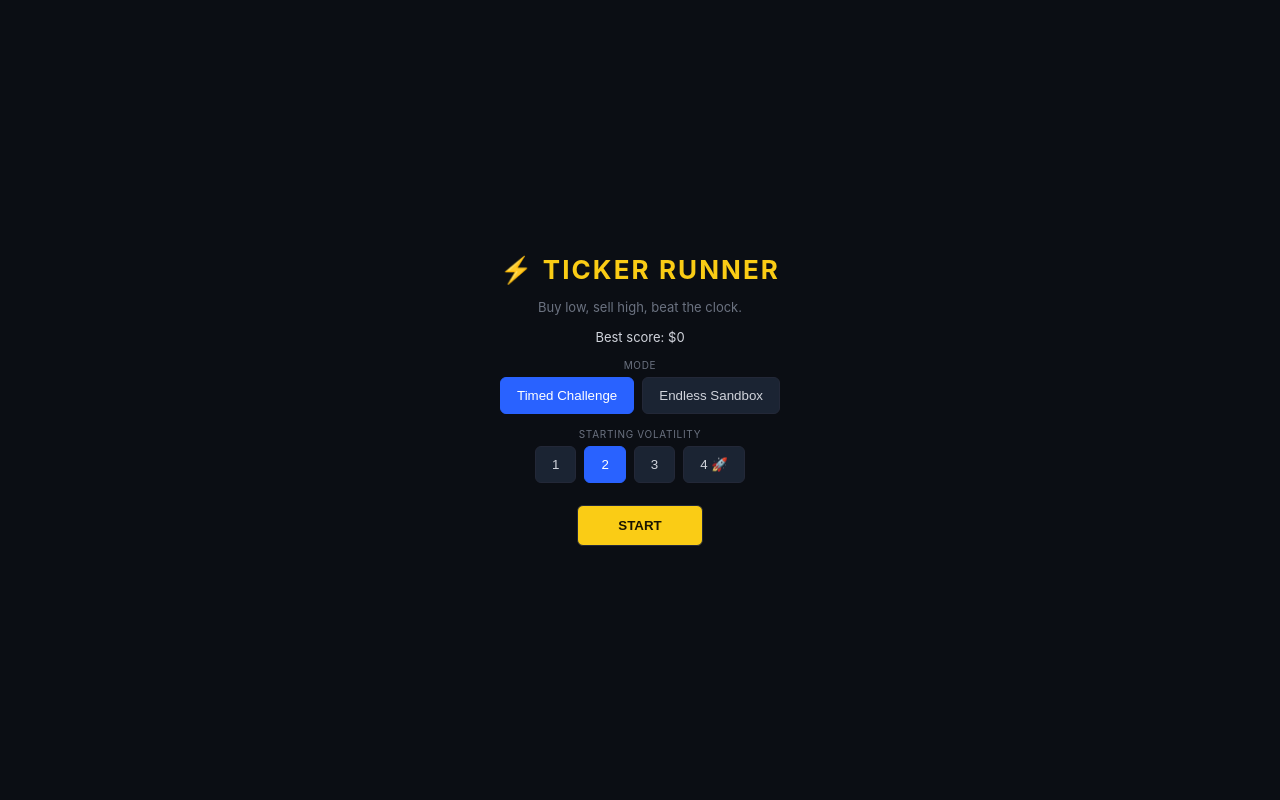
Test: App › renders the playing screen after pressing START without crashing
// start screen is up
Click the button "START" at [640, 526], box [577,505,703,546]
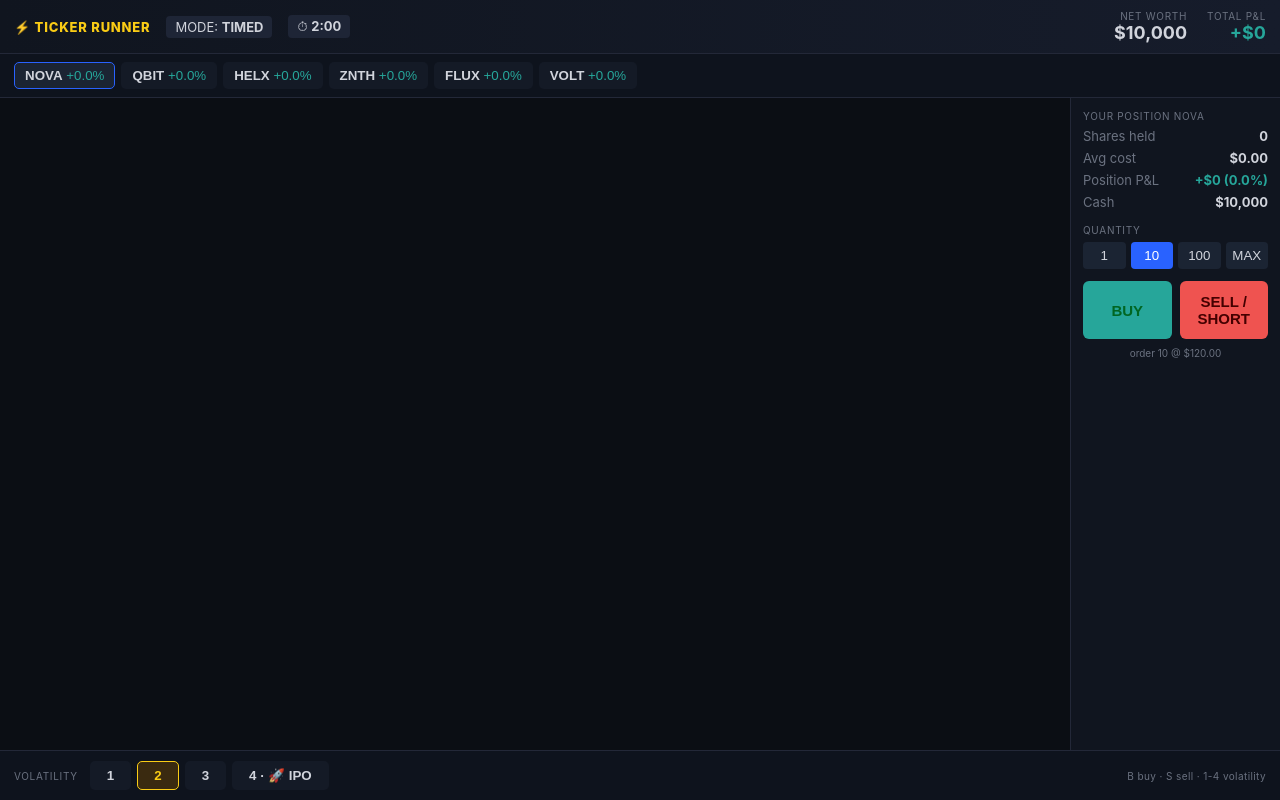
Expected: the text "⚡ TICKER RUNNER" is shown, [14,18,150,34]
Expected: the button "BUY" is shown, [1083,281,1172,339]
